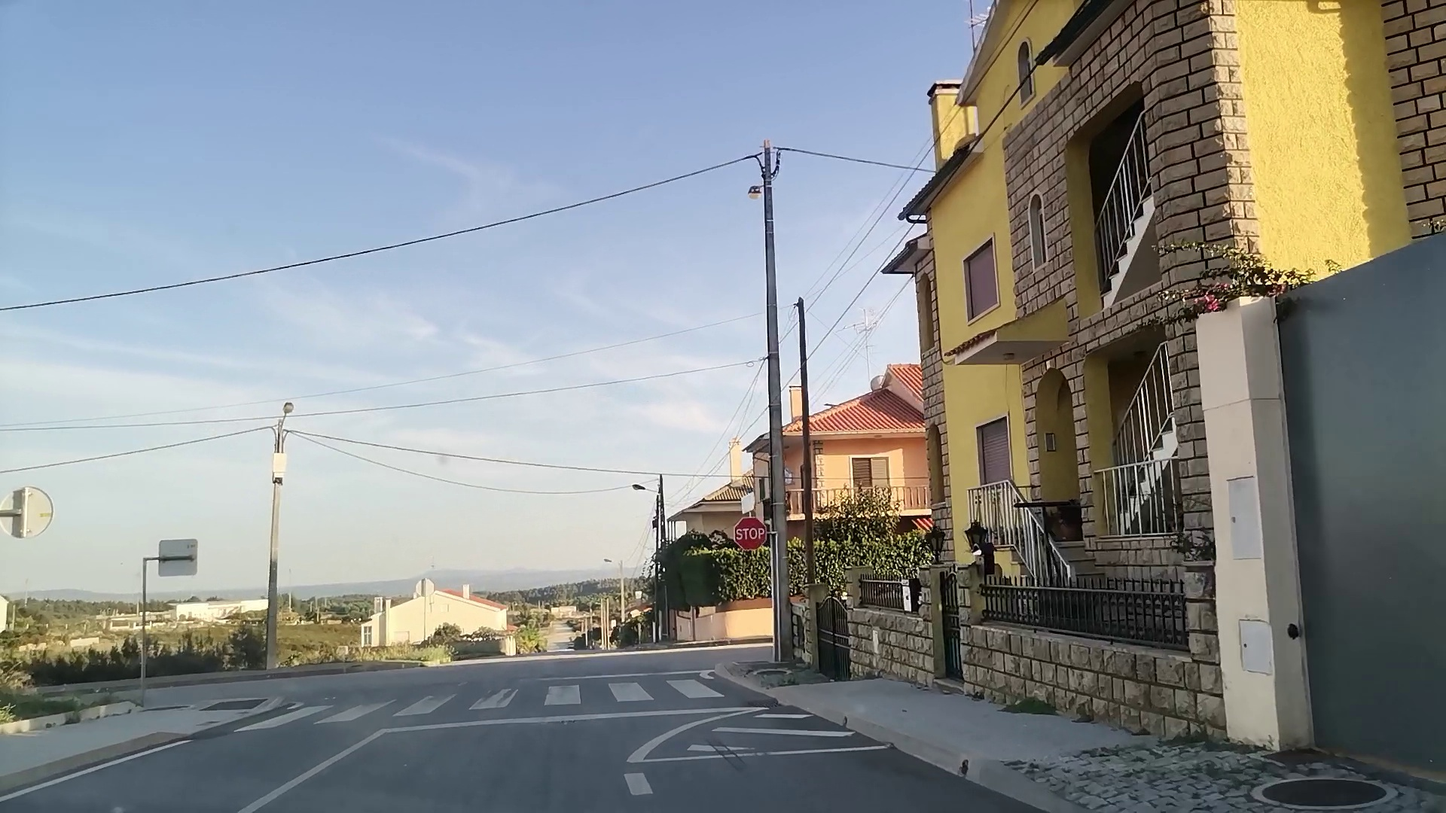Stairs: (232, 678, 731, 729)
